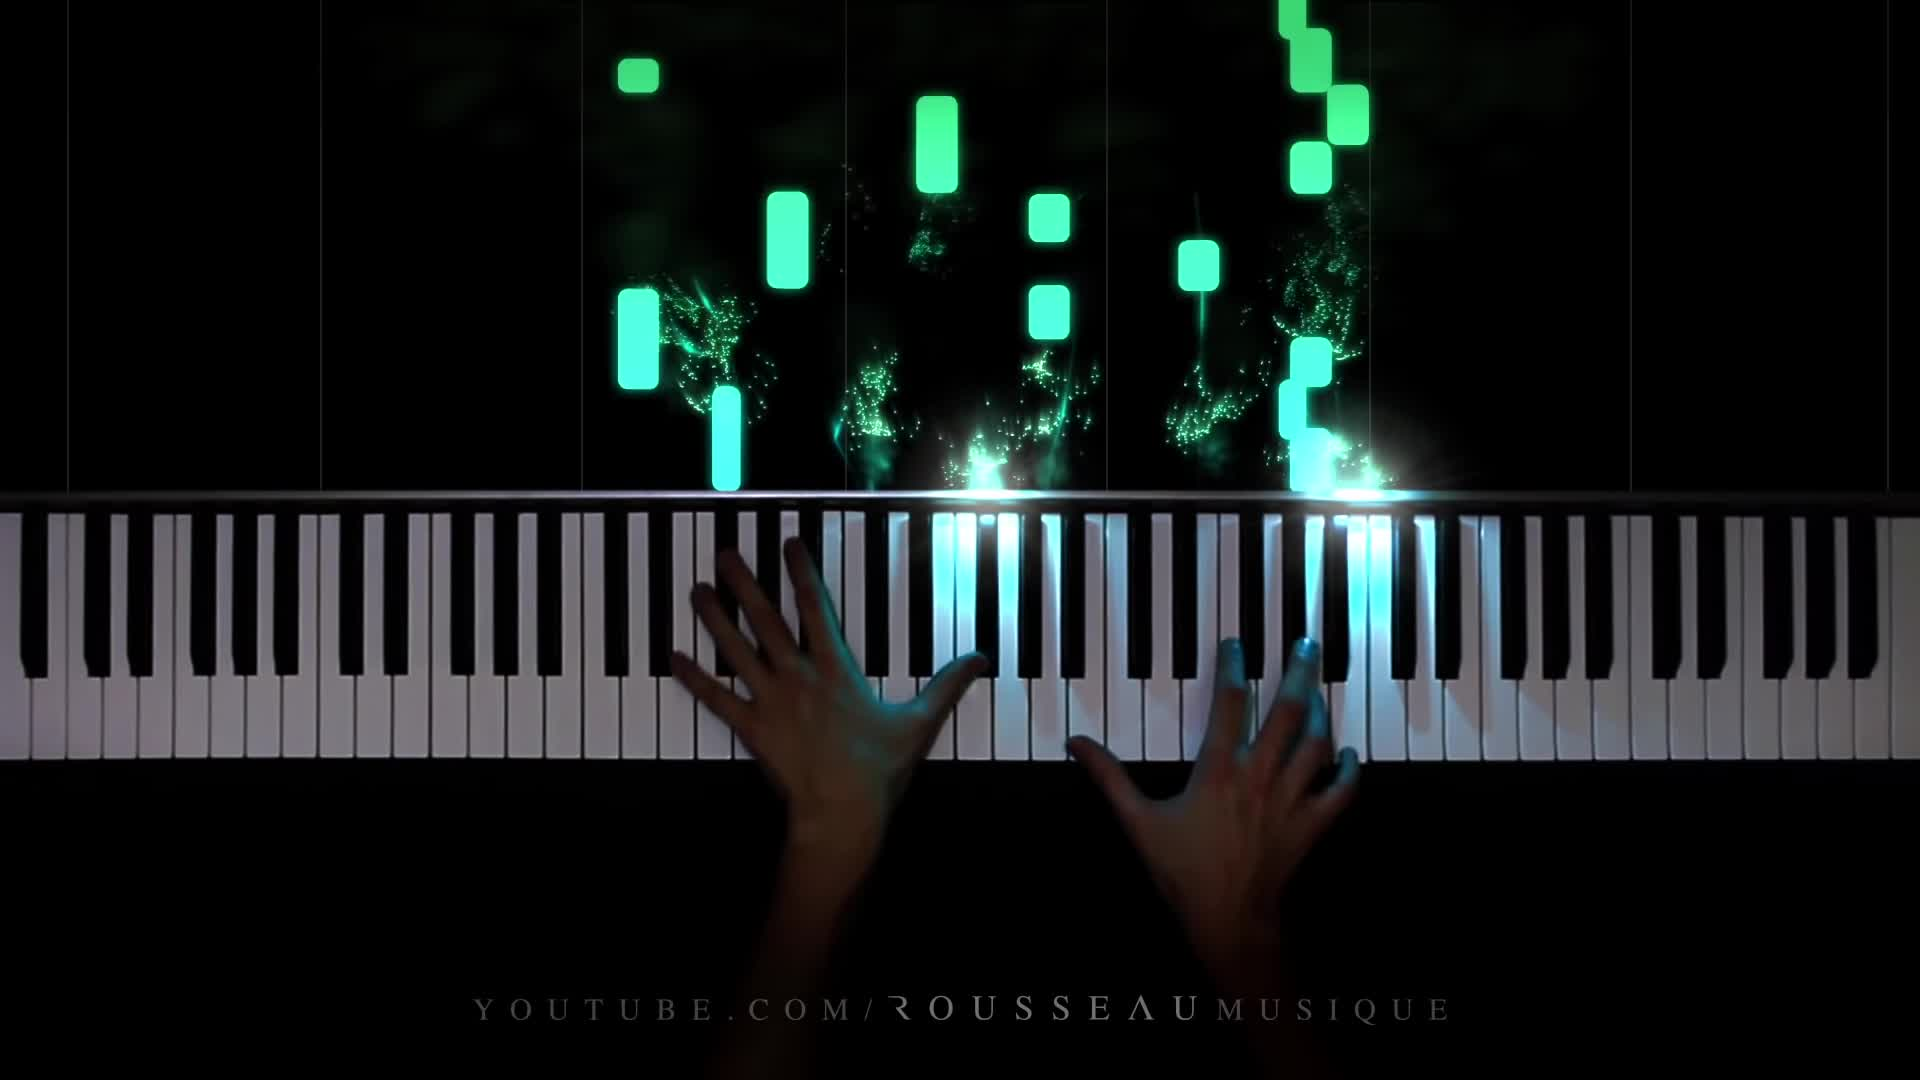left: (671, 533, 986, 829)
right: (1069, 634, 1360, 865)
